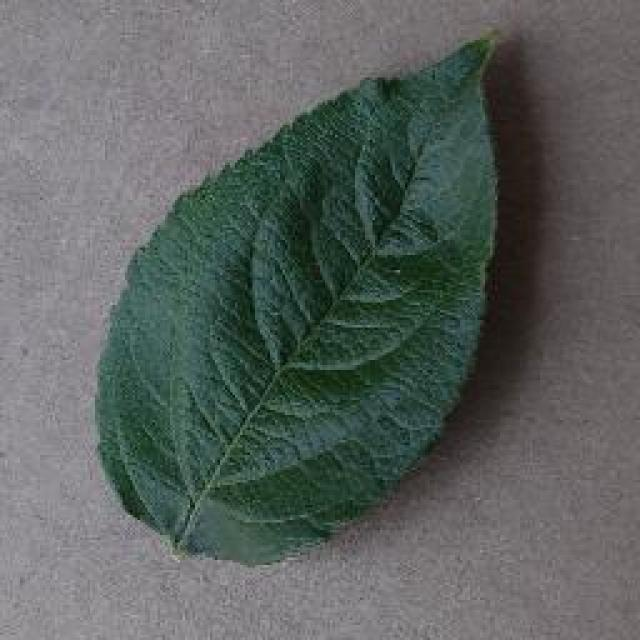apple healthy: (90, 28, 505, 568)
